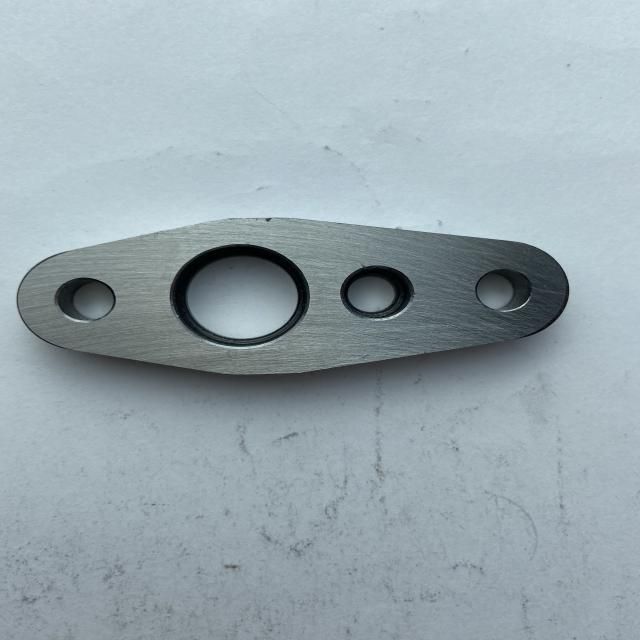chap: (357, 260, 368, 270), (262, 217, 274, 226)
